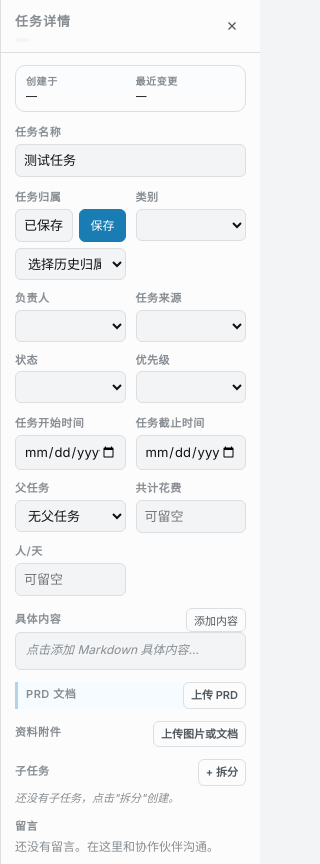
Scenario: DetailPanel task belonging › restores the saved belonging and shows an error when saving fails
Step 1. Replace the text in the field with test id "task-belonging-input" with "未保存归属" → (44, 226), box [15,209,74,242]
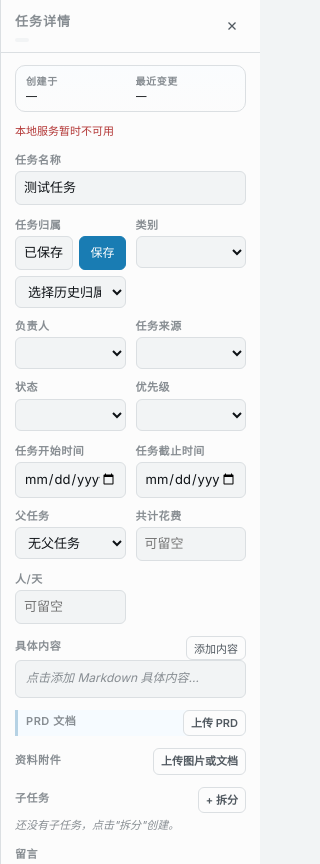
expect the field with test id "task-belonging-input" holds "已保存归属": met, box [15,236,74,270]
expect the message "本地服务暂时不可用" is shown: met, box [15,124,114,138]
